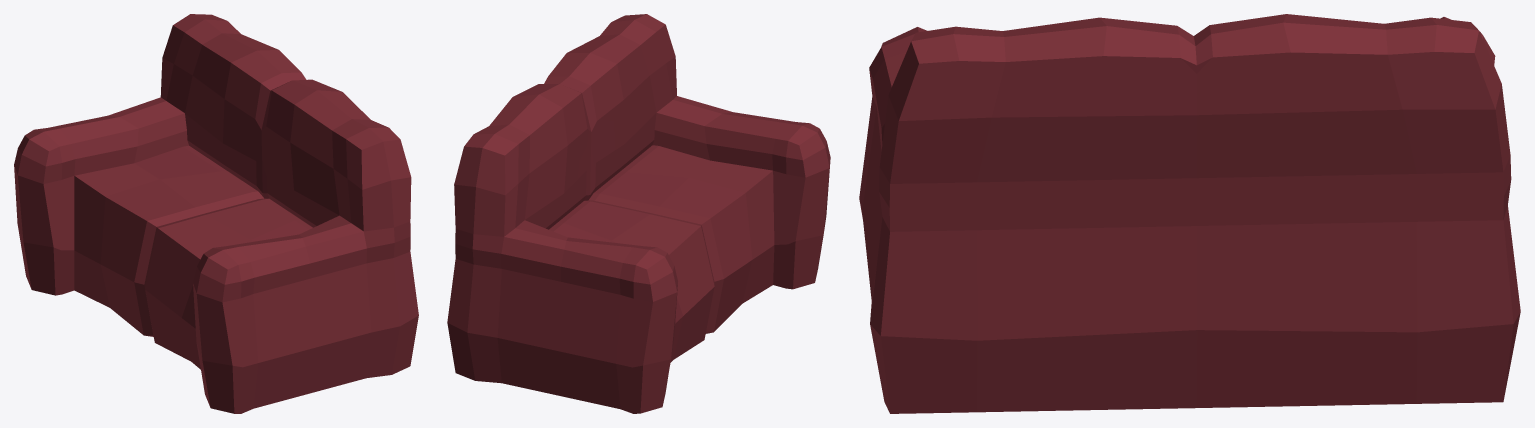
File: Couch.fbx
The picture shows the model from 3 angles, left to right: view 1: azimuth 30°, elevation 25°; view 2: azimuth 150°, elevation 25°; view 3: azimuth 270°, elevation 25°; orthographic projection. The views are drawn at different scales.
Parts seen in each view (by area): view 1: Couch; view 2: Couch; view 3: Couch.
Boxes of the visible parts, x1,y1,x2,y2 form: Couch: (14,14,418,413); Couch: (447,14,830,413); Couch: (859,14,1520,413).
Size of the model in its own units: 0.9332 by 0.9326 by 1.5.
